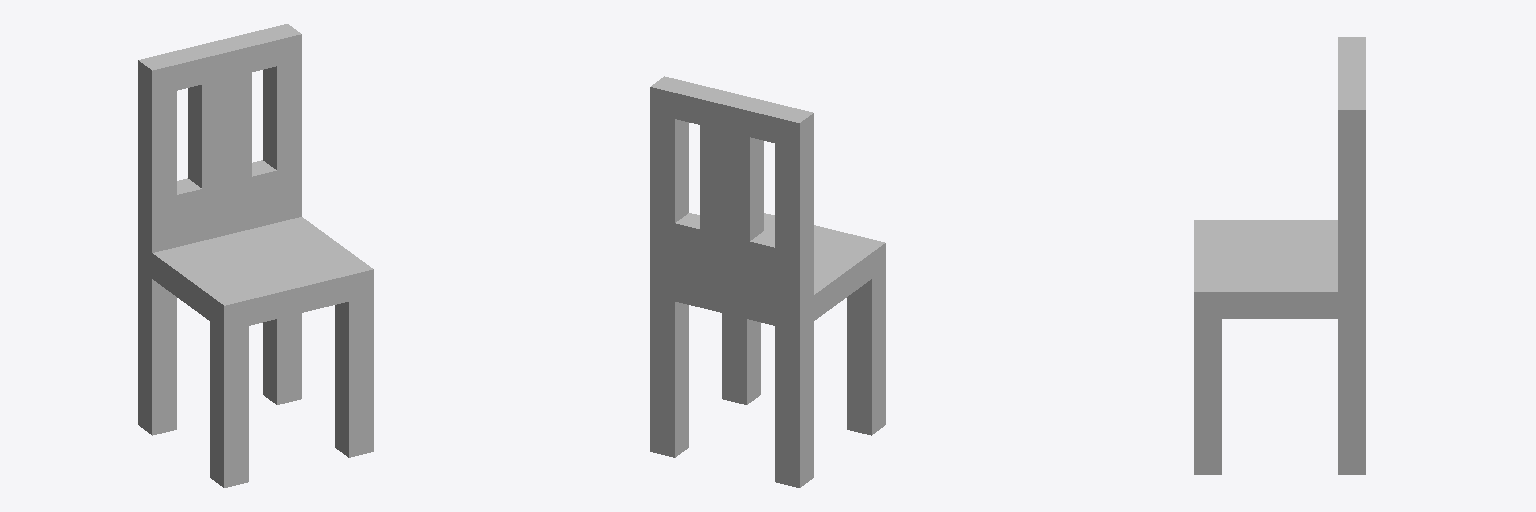
The model's file is chair.obj.
The picture shows the model from 3 angles: view 1: azimuth 30°, elevation 25°; view 2: azimuth 150°, elevation 25°; view 3: azimuth 270°, elevation 25°; orthographic projection.
Parts seen in each view (by area): view 1: object 1; view 2: object 1; view 3: object 1.
Boxes of the visible parts, box(x1,y1,x2,y2) form: object 1: box(138, 24, 373, 487); object 1: box(650, 76, 885, 487); object 1: box(1194, 37, 1365, 474).
Size of the model in its own units: 0.6 by 1.4 by 0.6.